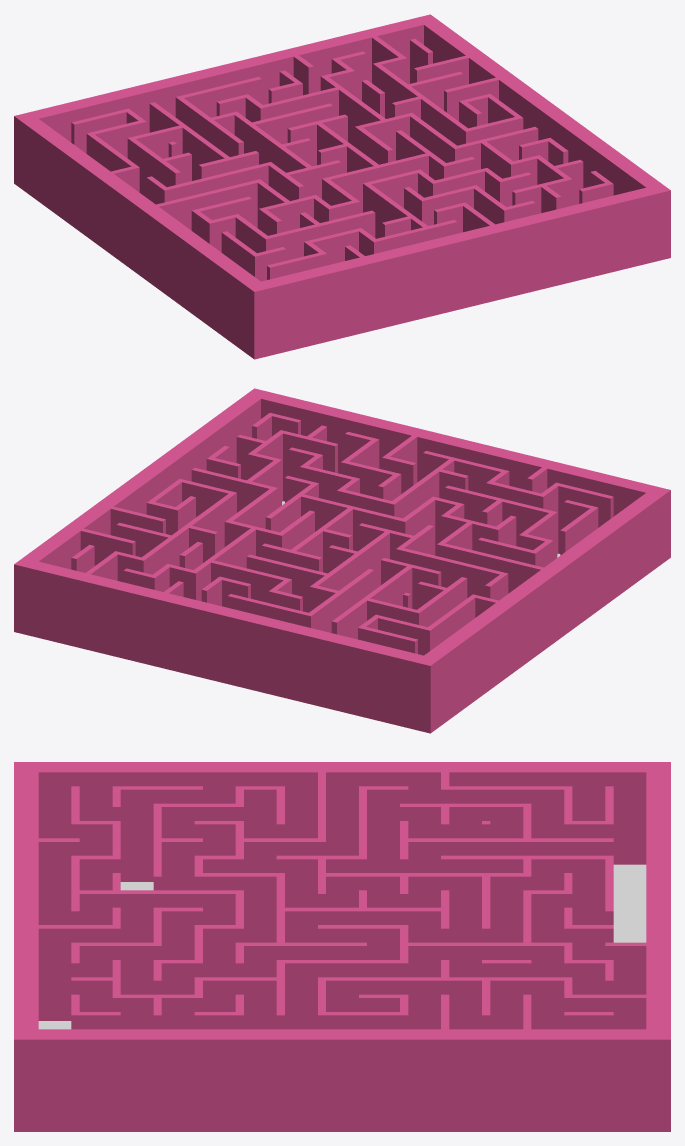
Rendered from Maze.glb.
3 views of the same model, one above another, from view 1: azimuth 30°, elevation 25°; view 2: azimuth 150°, elevation 25°; view 3: azimuth 270°, elevation 25° (orthographic). The views are drawn at different scales.
Visible parts, largest first — view 1: Plane; view 2: Plane; view 3: Plane.
Part boxes in pixels (x1,y1,x2,y2): Plane: [14, 14, 670, 359]; Plane: [14, 388, 670, 733]; Plane: [14, 762, 670, 1131].
Size of the model in its own units: 2 by 0.31 by 2.
